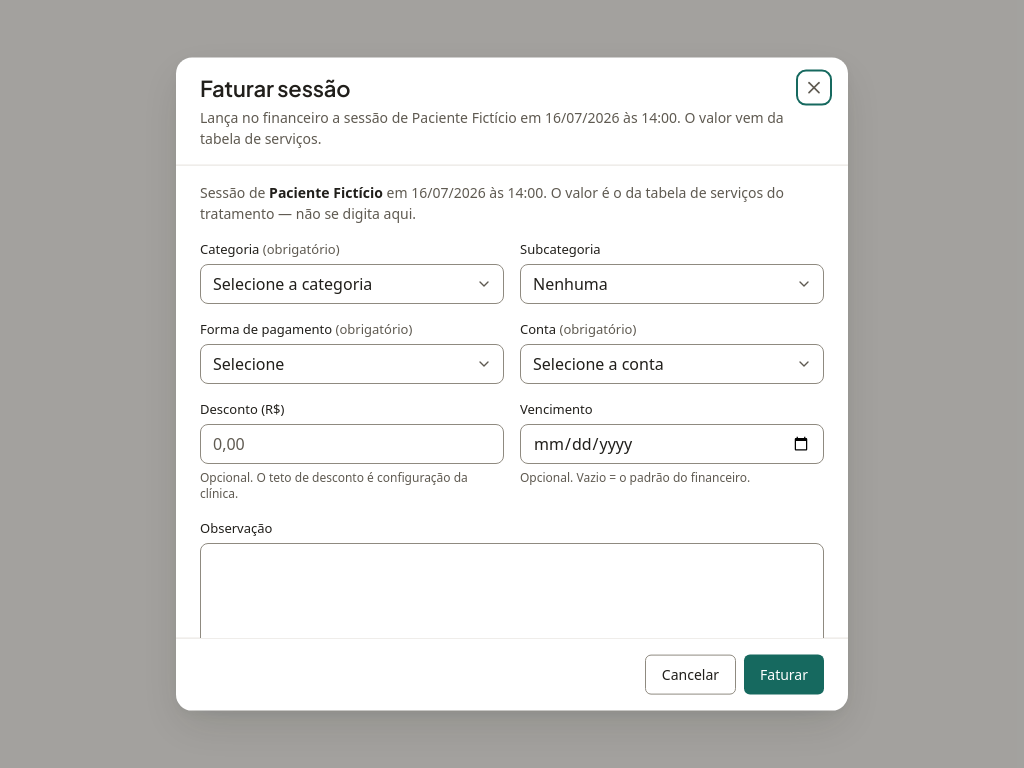
Test: DialogoFaturarSessao — faturar a sessão pela agenda › deve pousar a recusa de categoria no próprio campo
Select "Atendimentos" in the dropdown labelled "Categoria (obrigatório)". click: (352, 283)
box: [200,263,504,303]
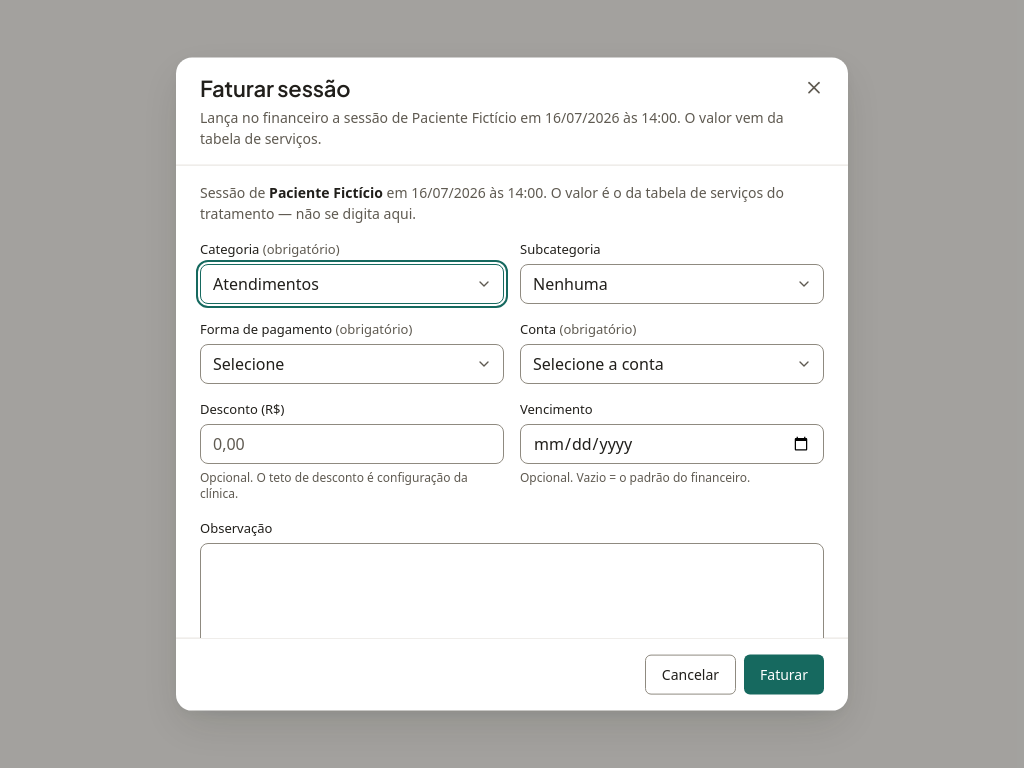
Select "Pix" in the dropdown labelled "Forma de pagamento (obrigatório)". click: (352, 364)
box: [200,344,504,384]
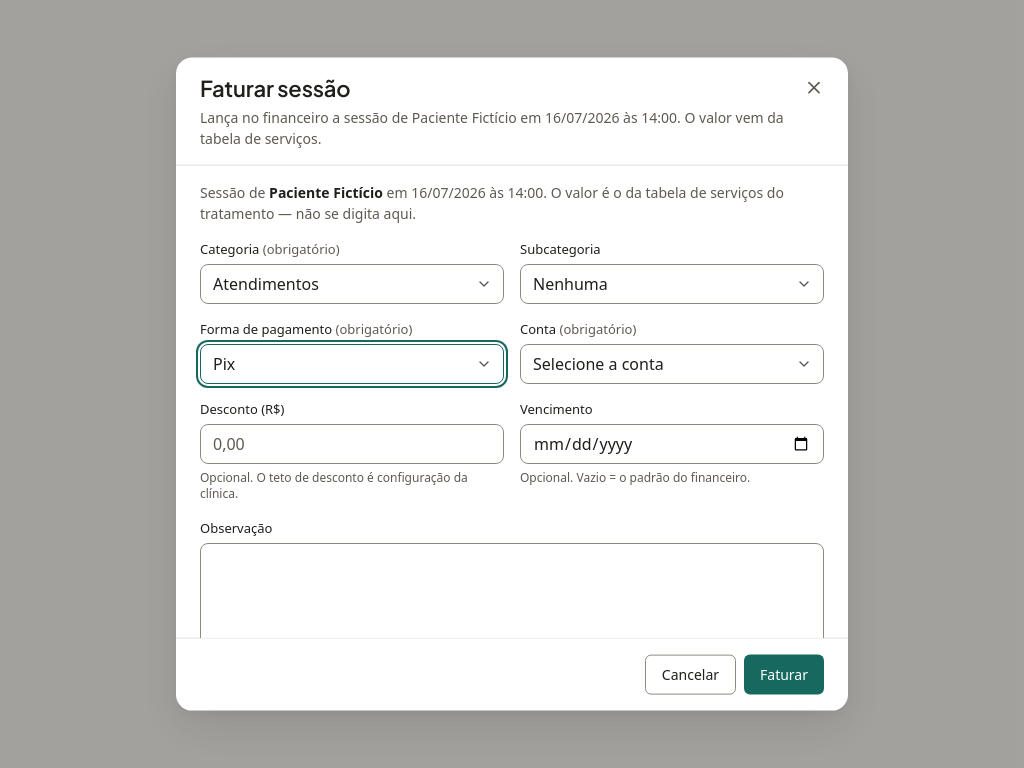
Select "Caixa da recepção" in the dropdown labelled "Conta (obrigatório)". click: (672, 364)
box: [520,344,824,384]
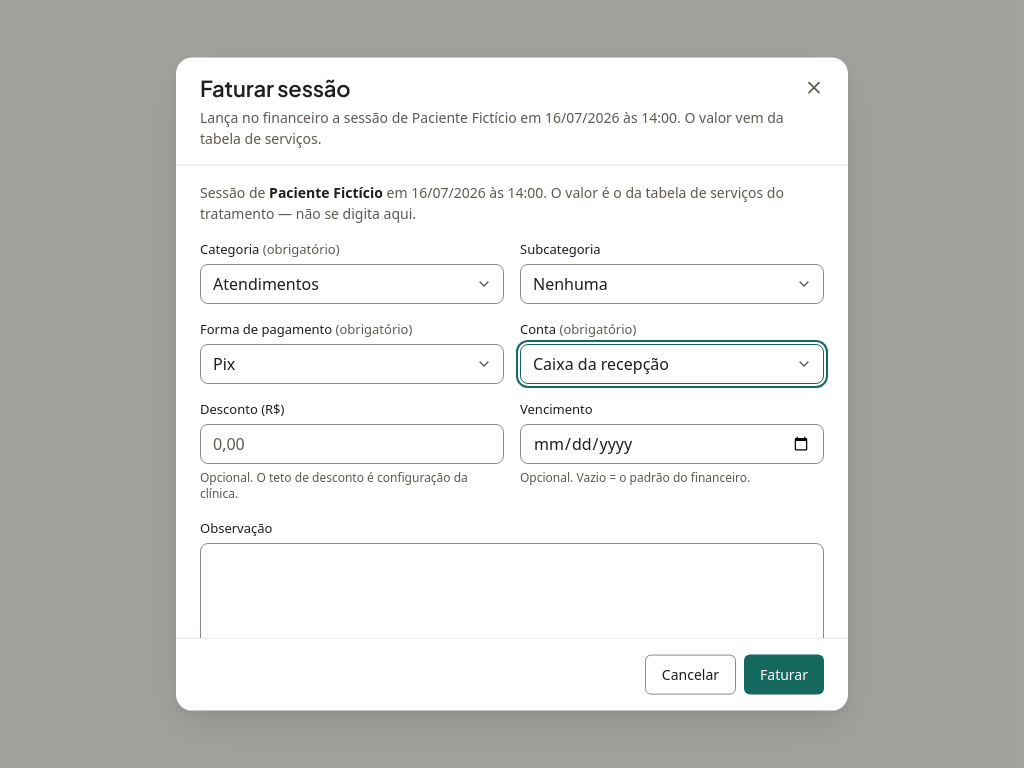
Click the button "Faturar". click: click(784, 674)
box: [744,654,824,694]
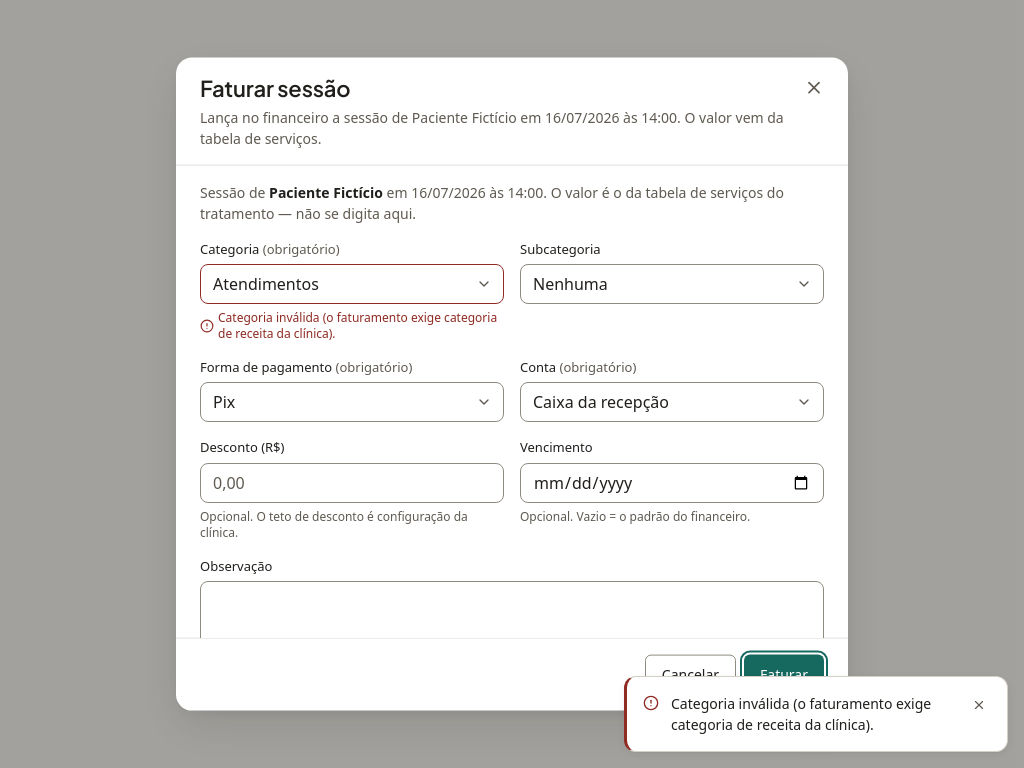
Expected: the text "Categoria inválida (o faturamento exige categoria de receita da clínica)." is shown, [200,309,504,342]
